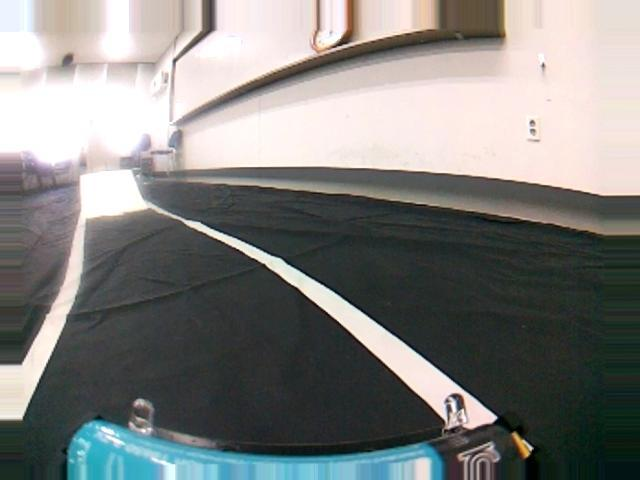hill_up: (76, 167, 147, 215)
left: (0, 228, 640, 480)
